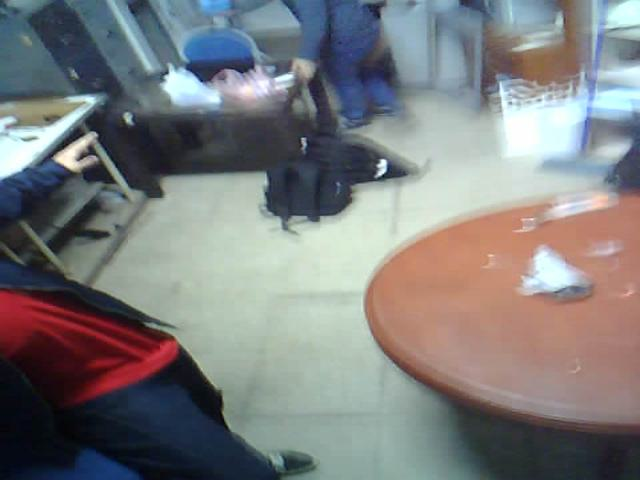person: (2, 121, 322, 480), (271, 0, 416, 134)
